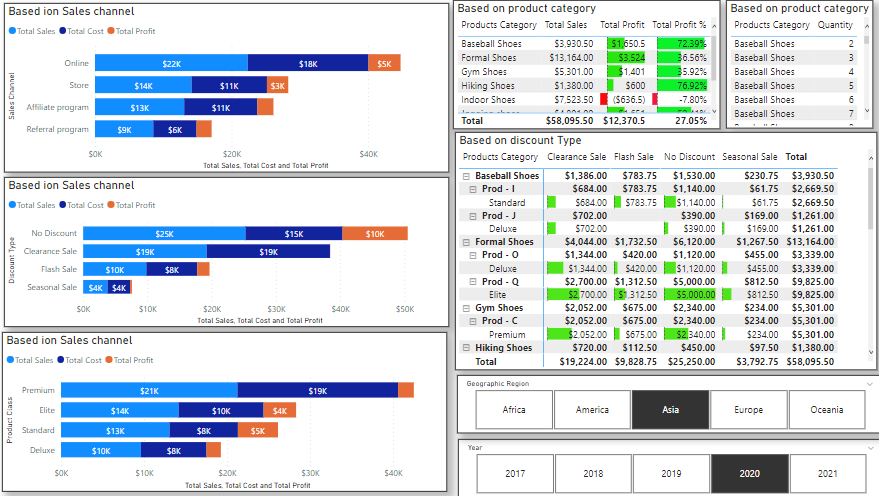

What the dashboard file says about the page in this screenshot:
{"tool":"powerbi","page":{"name":"sales Insights","canvas":[1280,720],"ordinal":1},"visuals":[{"type":"barChart","title":"Based ion Sales channel","fields":{"Category":["Sales Channel Details.Sales Channel"],"Y":["All Measures.Total Sales","All Measures.Total Cost","All Measures.Total Profit"]},"box":[9.8,6.6,641,244.3],"z":0},{"type":"barChart","title":"Based ion Sales channel","fields":{"Y":["All Measures.Total Sales","All Measures.Total Cost","All Measures.Total Profit"],"Category":["Discount Details.Discount Type"]},"box":[9.8,257.4,641,216.4],"z":1000},{"type":"barChart","title":"Based ion Sales channel","fields":{"Category":["Products Details.Product Class"],"Y":["All Measures.Total Sales","All Measures.Total Cost","All Measures.Total Profit"]},"box":[6.6,480.3,641,229.5],"z":2000},{"type":"slicer","fields":{"Values":["Calender.Year"]},"box":[663.5,635,613.1,84],"z":3000},{"type":"tableEx","title":"Based on product category","fields":{"Values":["Products Details.Products Category","All Measures.Total Sales","All Measures.Total Profit","All Measures.Total Profit %"]},"box":[656.8,3.4,384.7,186.5],"z":4000},{"type":"tableEx","title":"Based on product category","fields":{"Values":["Products Details.Products Category","Sales Data.Quantity"]},"box":[1049.9,3.4,211.7,184.8],"z":5000},{"type":"pivotTable","title":"Based on discount Type","fields":{"Rows":["Products Details.Products Category","Products Details.Product Name","Products Details.Product Class"],"Columns":["Discount Details.Discount Type"],"Values":["All Measures.Total Sales"]},"box":[660.2,193.2,608.1,342.7],"z":6000},{"type":"slicer","fields":{"Values":["Location Details.Geographic Region"]},"box":[661.8,542.6,613.1,84],"z":7000}]}

Visuals, with their boxes in screenshot pixels (x1, y1, x2, y2), scaled from the page's 1280x720 canvas onto the 879x496 screenshot:
"Based ion Sales channel" barChart: bbox(7, 5, 447, 173)
"Based ion Sales channel" barChart: bbox(7, 177, 447, 326)
"Based ion Sales channel" barChart: bbox(5, 331, 445, 489)
slicer - Calender.Year: bbox(456, 437, 877, 495)
"Based on product category" tableEx: bbox(451, 2, 715, 131)
"Based on product category" tableEx: bbox(721, 2, 866, 130)
"Based on discount Type" pivotTable: bbox(453, 133, 871, 369)
slicer - Location Details.Geographic Region: bbox(454, 374, 875, 432)
